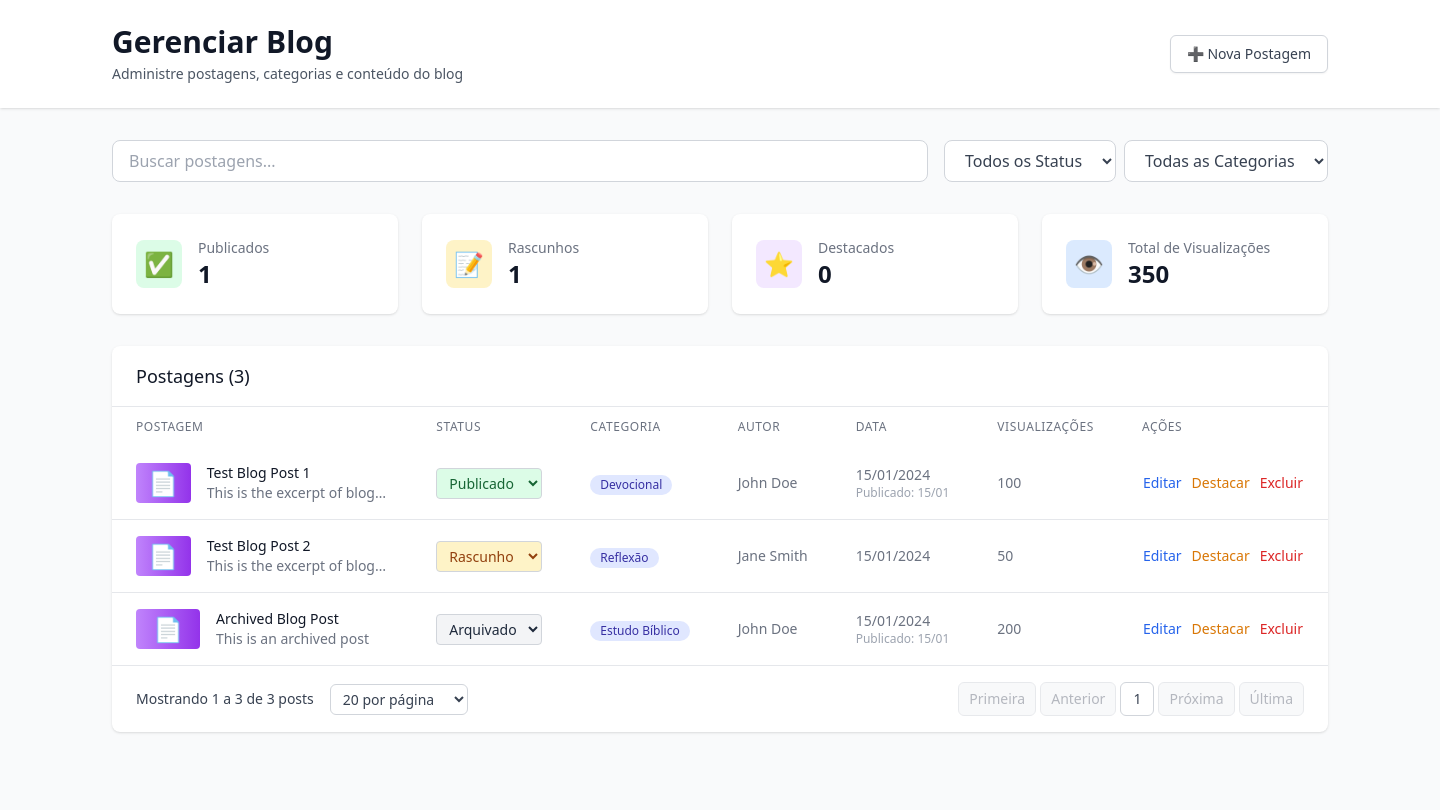
Test case: AdminBlogManagementPage › Empty State › should show empty state when filter returns no results
expect the text "Test Blog Post 1" is shown: met, box [207,463,311,483]
Search for non-existent post
In the field with placeholder "Buscar postagens...": (520, 161) [112,140,928,182], type "nonexistent post"
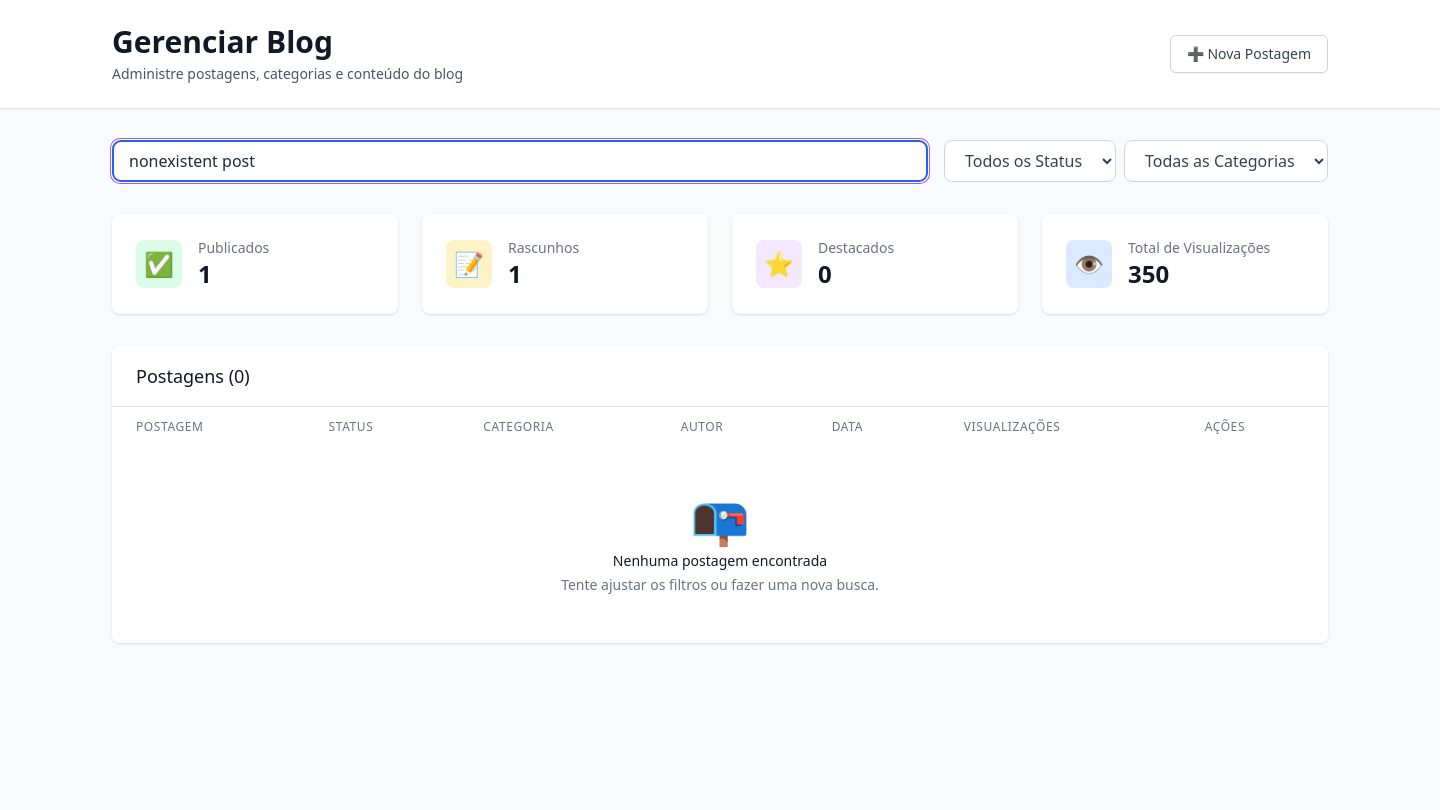
expect the heading "Nenhuma postagem encontrada" is shown: met, box [613,551,827,570]
